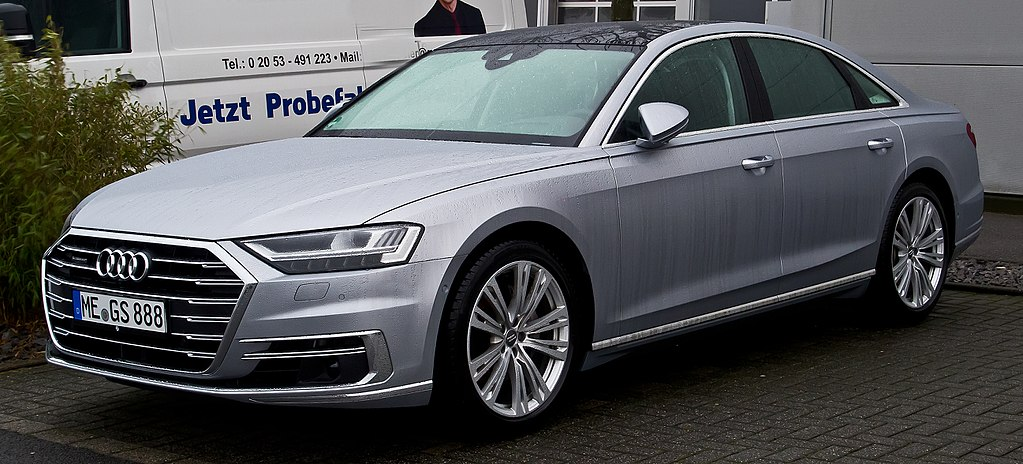plate: (70, 286, 171, 337)
